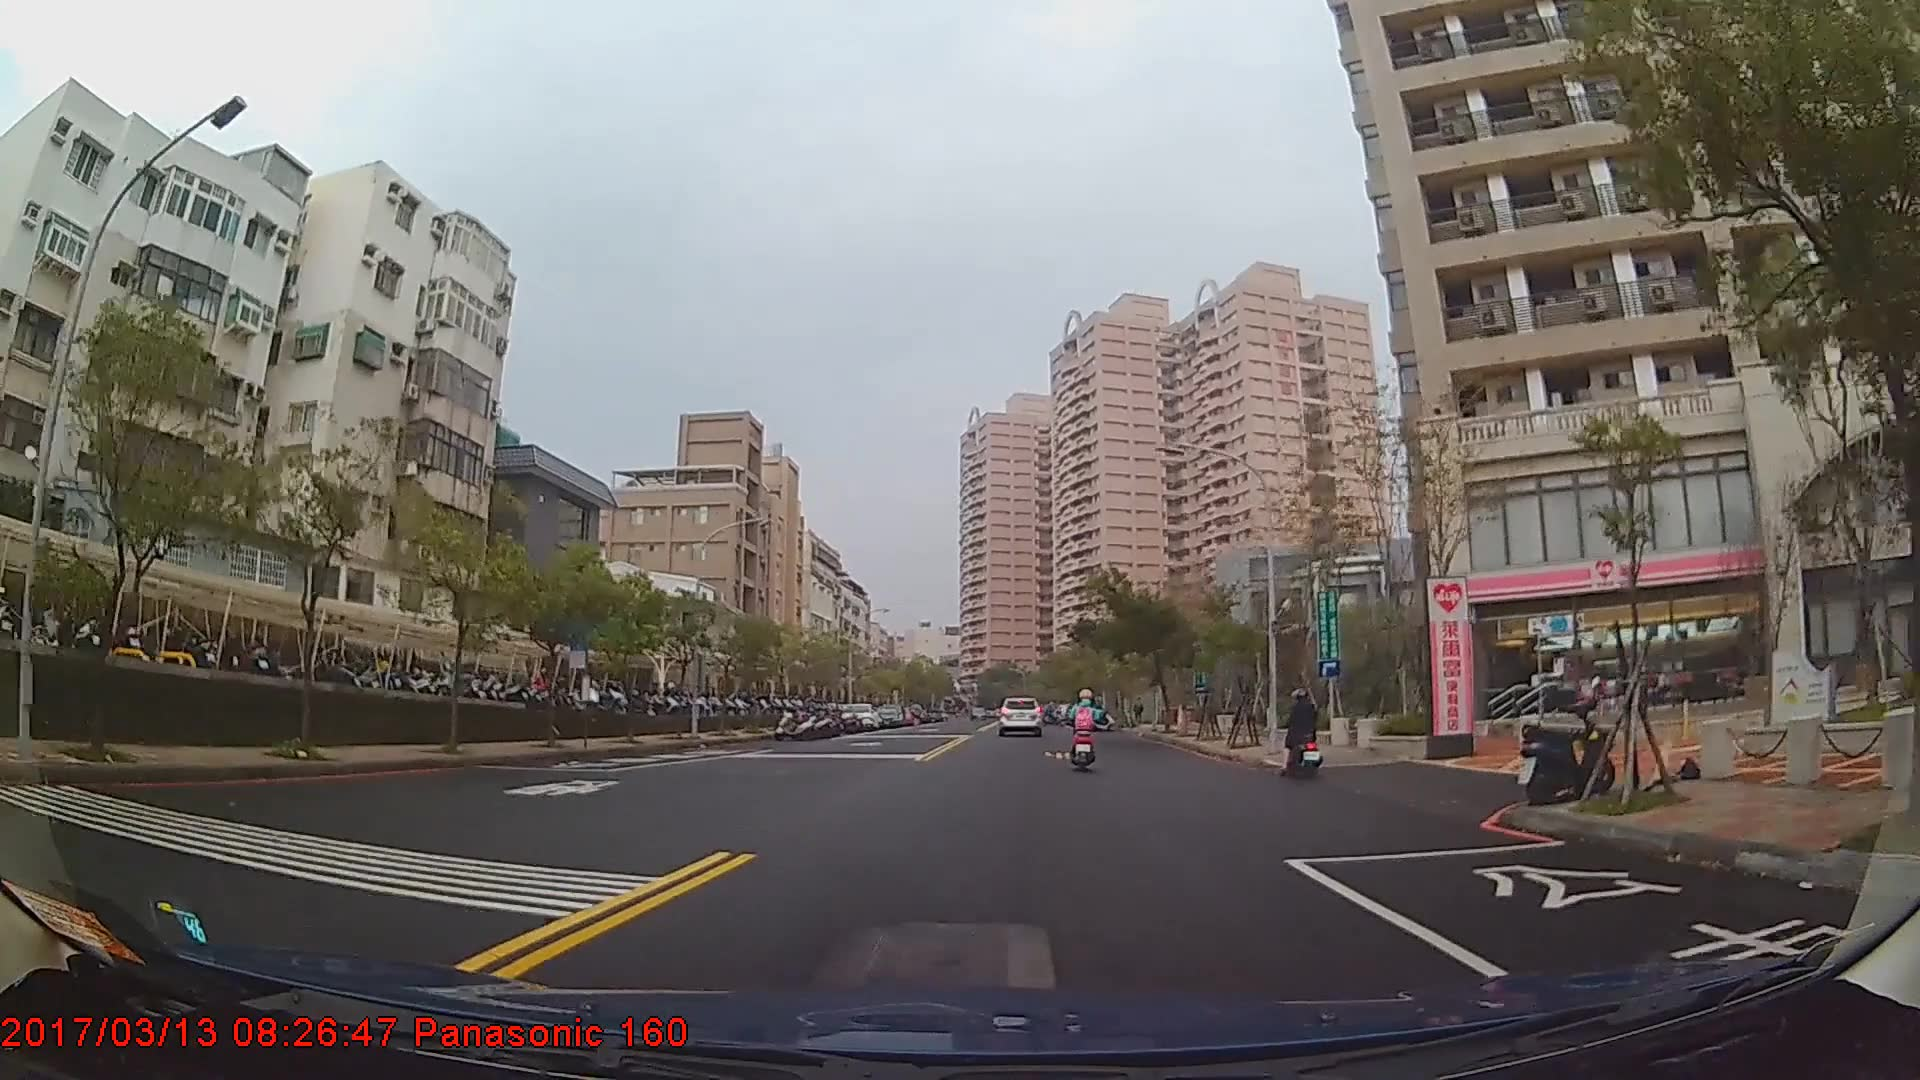rider: (1281, 687, 1325, 775), (1066, 690, 1105, 771)
vehicle: (994, 694, 1045, 737), (839, 702, 876, 730)
